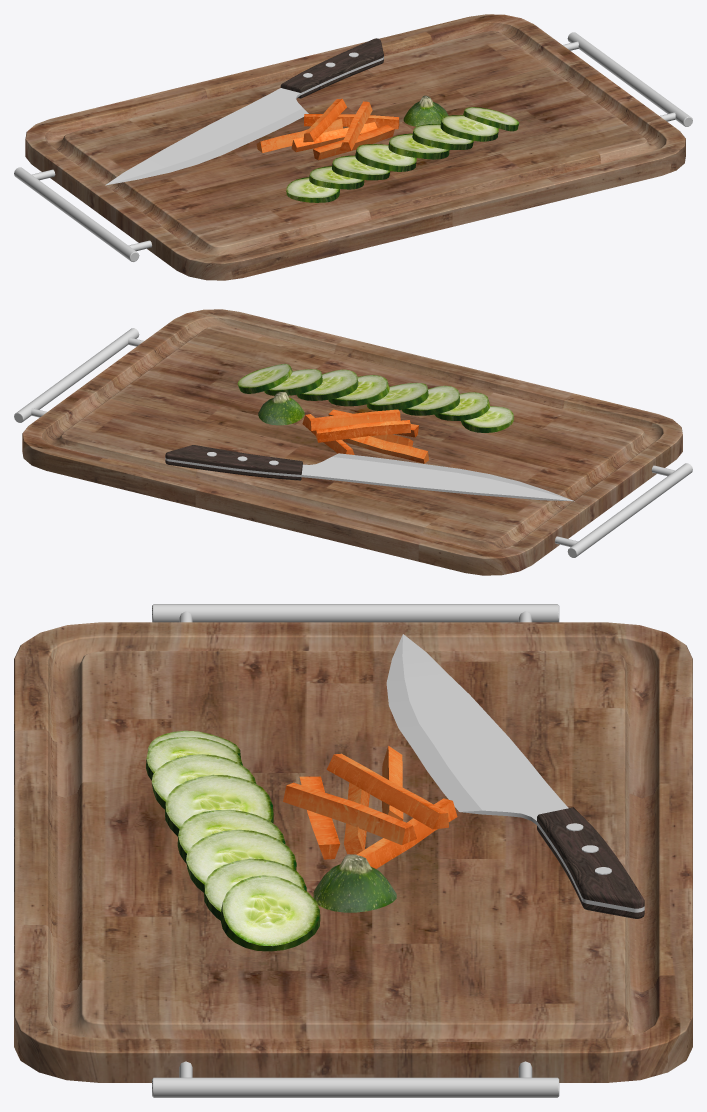
The model's file is Chopping Board.fbx.
The picture shows the model from 3 angles, top to bottom: view 1: azimuth 30°, elevation 25°; view 2: azimuth 150°, elevation 25°; view 3: azimuth 270°, elevation 25°; orthographic projection. The views are drawn at different scales.
Parts seen in each view (by area): view 1: Board-material, Cucumber-material, Handle-material.001, Carrot_HQ_001-material, Handle-material, Grip-material, Blade-material; view 2: Board-material, Cucumber-material, Handle-material.001, Carrot_HQ_001-material, Handle-material, Grip-material, Blade-material; view 3: Board-material, Cucumber-material, Handle-material, Handle-material.001, Carrot_HQ_001-material, Grip-material, Blade-material.
Boxes of the visible parts, x1=… form: Board-material: x1=25, y1=14, x2=685, y2=280; Cucumber-material: x1=286, y1=95, x2=519, y2=202; Handle-material.001: x1=105, y1=52, x2=383, y2=185; Carrot_HQ_001-material: x1=256, y1=98, x2=399, y2=160; Handle-material: x1=14, y1=32, x2=692, y2=262; Grip-material: x1=280, y1=38, x2=383, y2=98; Blade-material: x1=106, y1=108, x2=308, y2=185; Board-material: x1=22, y1=309, x2=682, y2=575; Cucumber-material: x1=237, y1=363, x2=513, y2=432; Handle-material.001: x1=165, y1=452, x2=574, y2=501; Carrot_HQ_001-material: x1=302, y1=409, x2=428, y2=463; Handle-material: x1=14, y1=328, x2=692, y2=557; Grip-material: x1=165, y1=445, x2=302, y2=480; Blade-material: x1=332, y1=453, x2=573, y2=500; Board-material: x1=14, y1=622, x2=692, y2=1082; Cucumber-material: x1=146, y1=730, x2=396, y2=951; Handle-material: x1=152, y1=604, x2=559, y2=1097; Handle-material.001: x1=402, y1=634, x2=644, y2=912; Carrot_HQ_001-material: x1=283, y1=746, x2=457, y2=868; Grip-material: x1=537, y1=807, x2=644, y2=918; Blade-material: x1=386, y1=634, x2=482, y2=811.
Bounding box in the file's own units: 42 × 2.87 × 25.
